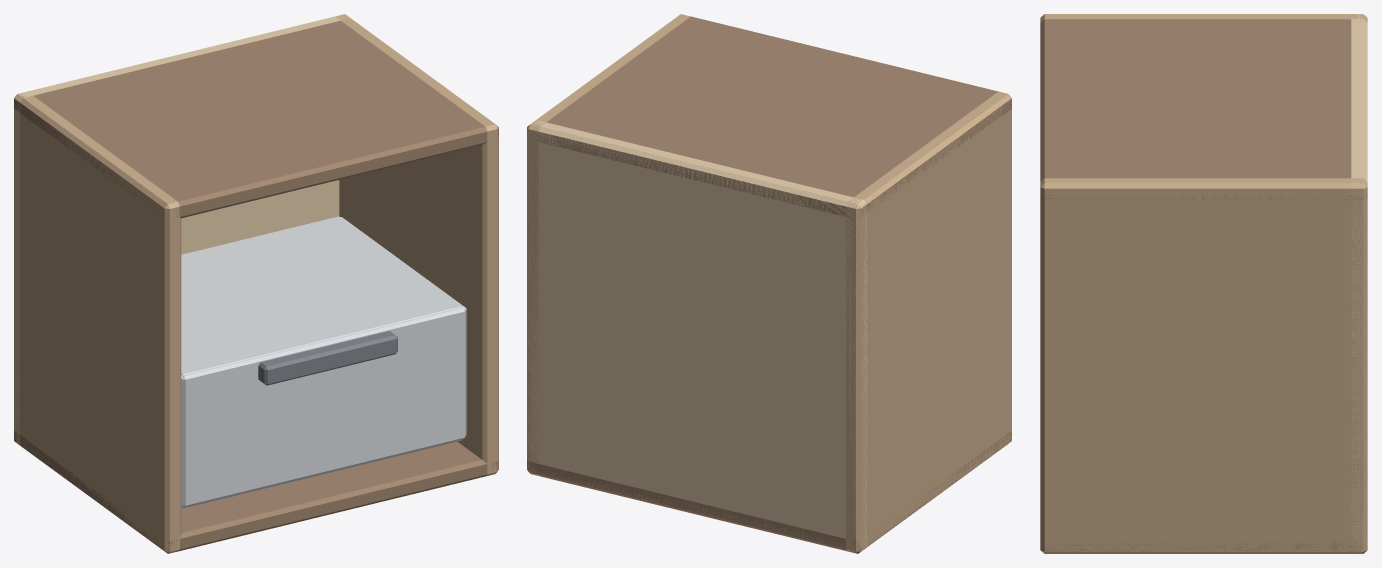
File: Basket_1x1.glb
3 renders of one model, left to right at view 1: azimuth 30°, elevation 25°; view 2: azimuth 150°, elevation 25°; view 3: azimuth 270°, elevation 25°, orthographic. The views are drawn at different scales.
Visible parts, largest first — view 1: WallSysBasket11_Body, WallSysBasket11_Basket; view 2: WallSysBasket11_Body; view 3: WallSysBasket11_Body.
Part boxes in pixels (x1,y1,x2,y2): WallSysBasket11_Body: (14,14,498,553); WallSysBasket11_Basket: (181,216,466,508); WallSysBasket11_Body: (527,14,1011,553); WallSysBasket11_Body: (1040,14,1367,553).
Size of the model in its own units: 0.4 by 0.4 by 0.32.
